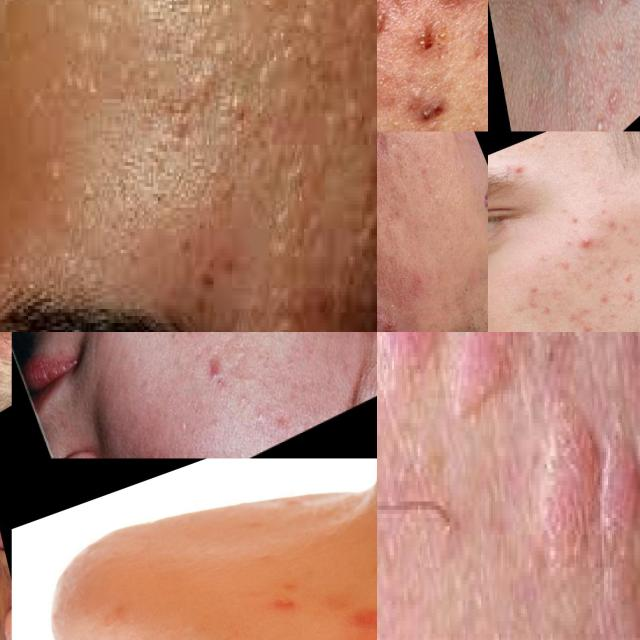acne_scars: (377, 131, 396, 165)
comedone: (616, 283, 640, 312), (556, 227, 581, 253), (562, 208, 582, 230), (531, 136, 551, 156)
cystic: (377, 283, 412, 332)
flat_wart: (239, 29, 377, 251)
milium: (580, 98, 612, 132), (603, 88, 625, 125), (610, 0, 640, 26)
papule: (192, 348, 241, 398), (576, 230, 598, 252)
pustule: (377, 70, 391, 116)
syringoma: (528, 369, 640, 594), (377, 332, 538, 429), (534, 0, 576, 47)
